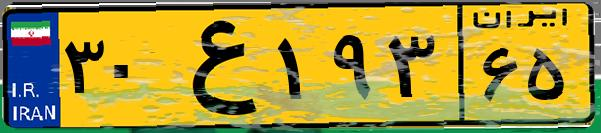0: (110, 28, 158, 98)
1: (270, 28, 330, 110)
3: (385, 28, 445, 110), (57, 26, 110, 100)
5: (525, 38, 570, 115)
6: (475, 38, 525, 113)
9: (330, 28, 385, 110)
ع: (158, 12, 270, 120)
